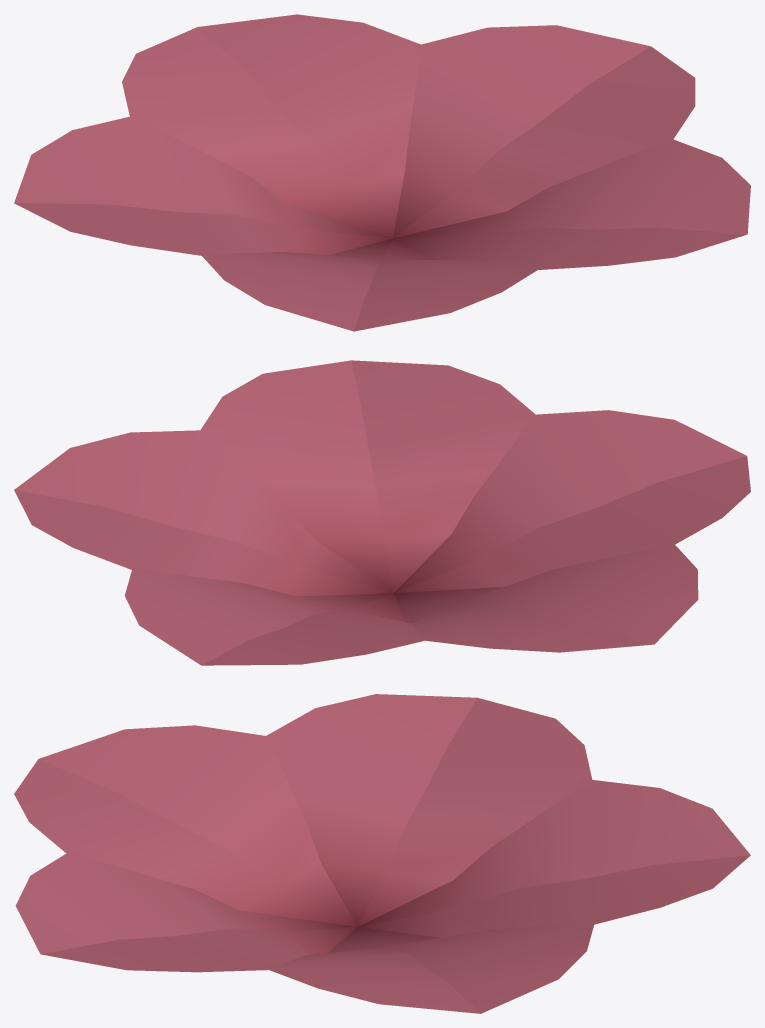
The model's file is sakura.fbx.
3 renders of one model, top to bottom at view 1: azimuth 30°, elevation 25°; view 2: azimuth 150°, elevation 25°; view 3: azimuth 270°, elevation 25°, orthographic.
Parts seen in each view (by area): view 1: sakura; view 2: sakura; view 3: sakura.
Part boxes in pixels (bbox=[...]): sakura: bbox=[14, 14, 750, 331]; sakura: bbox=[14, 360, 750, 665]; sakura: bbox=[14, 694, 750, 1013].
Bounding box in the file's own units: 231 × 28.57 × 227.
